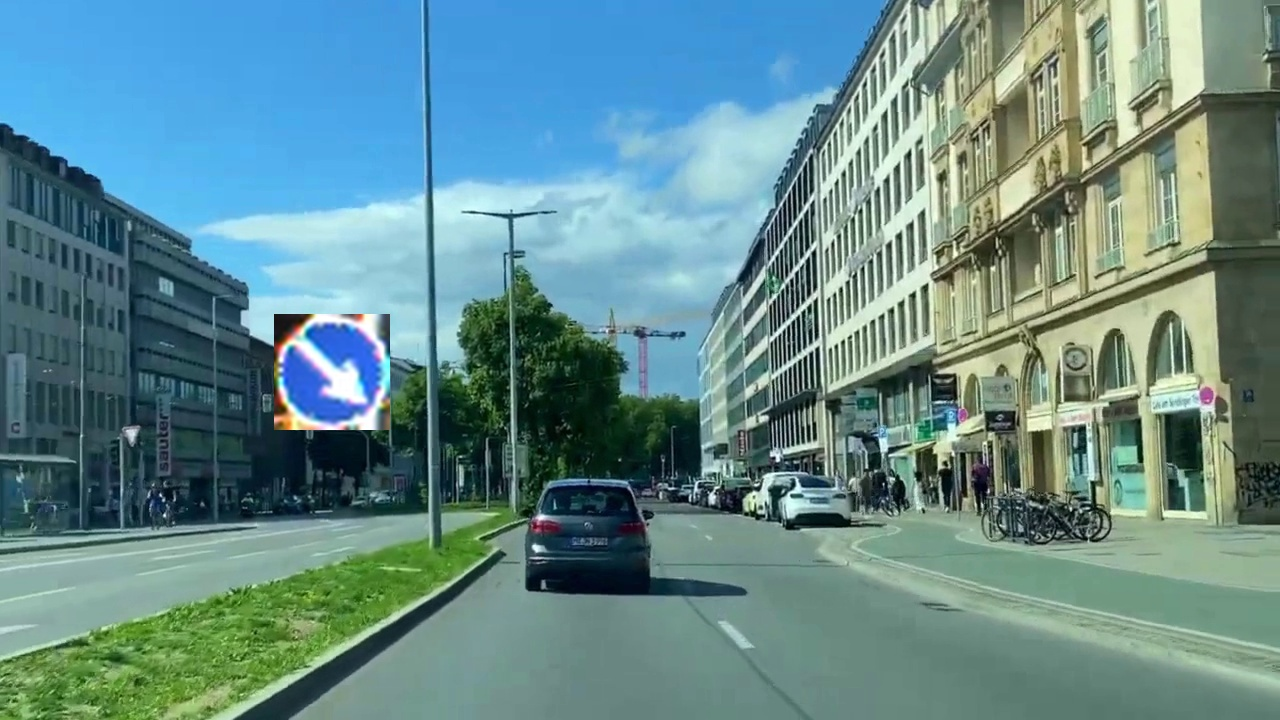Keep right: (274, 314, 390, 430)
